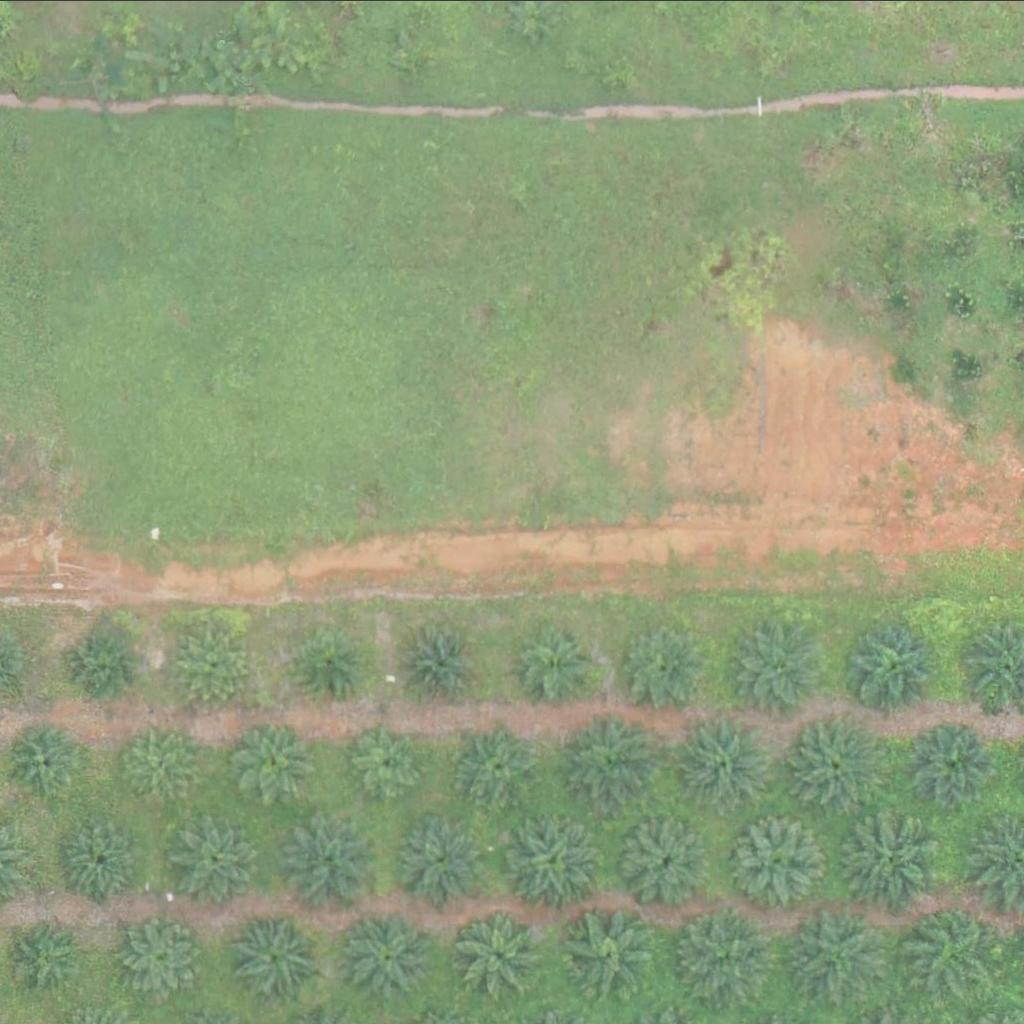Kelapa_Sawit: (282, 814, 383, 914), (113, 909, 214, 1009), (223, 909, 324, 1009), (669, 905, 770, 1005), (790, 900, 891, 1000), (729, 809, 830, 909), (840, 810, 941, 910), (674, 707, 775, 807), (785, 714, 886, 814), (844, 615, 945, 715), (563, 711, 663, 811), (502, 811, 602, 911), (559, 905, 659, 1005), (899, 897, 999, 997), (60, 811, 149, 899), (625, 815, 714, 903), (518, 621, 606, 709), (455, 718, 543, 806), (174, 816, 262, 904), (399, 817, 487, 905), (909, 721, 997, 809), (227, 721, 315, 808), (399, 618, 487, 705), (347, 913, 435, 1000), (458, 910, 546, 997), (619, 622, 707, 709), (734, 622, 822, 709), (11, 720, 86, 795), (353, 722, 428, 797), (174, 630, 249, 705), (66, 623, 141, 698), (122, 728, 197, 803), (297, 637, 360, 700)
